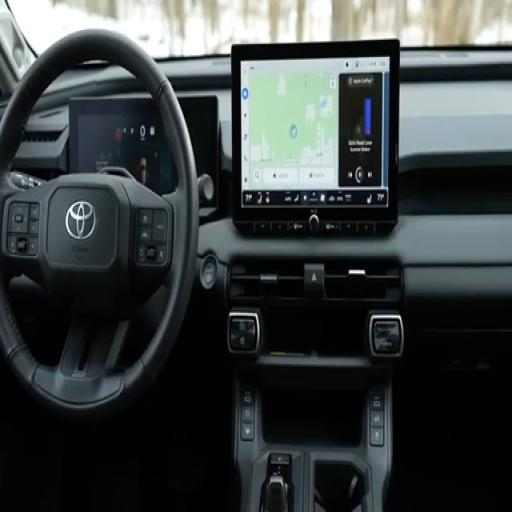emblem: (66, 201, 95, 240)
windshield: (8, 0, 511, 58)
